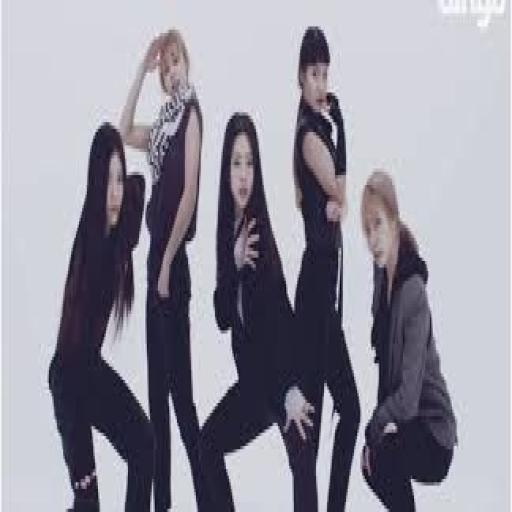dancing: (117, 23, 216, 509), (198, 109, 318, 509), (46, 119, 158, 509), (286, 23, 363, 509), (357, 165, 460, 509)
